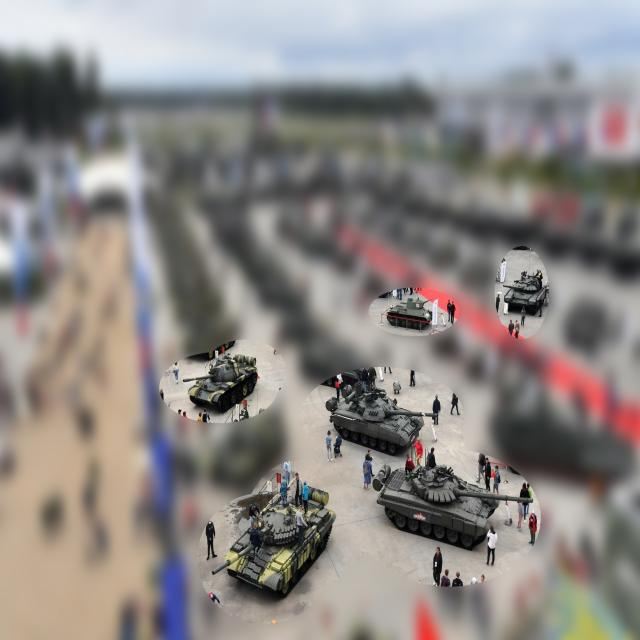tank: (210, 478, 336, 598), (376, 466, 535, 550), (328, 386, 438, 457), (183, 348, 262, 411), (502, 268, 554, 315), (384, 294, 436, 333)
